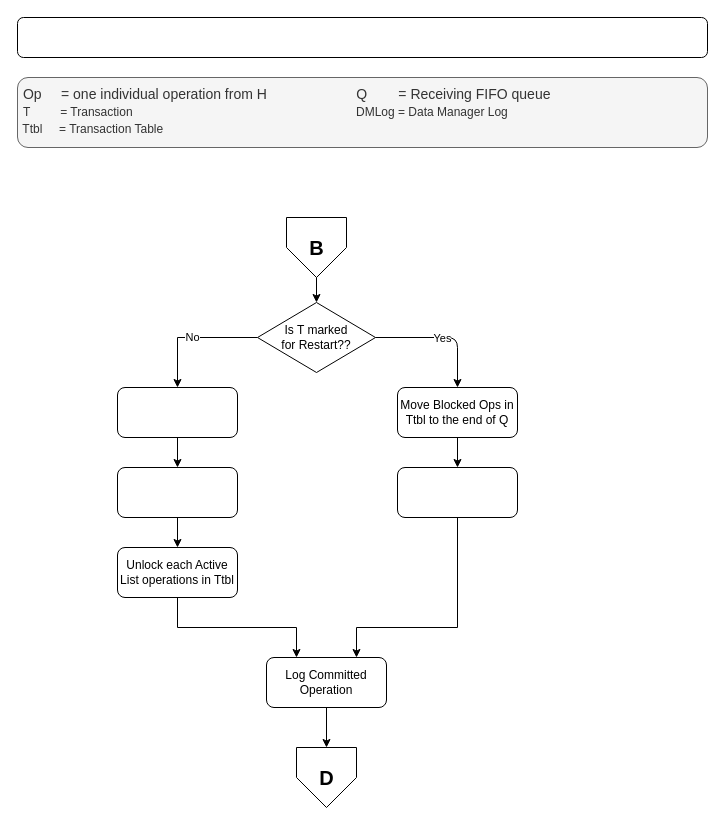
This 725x825 diagram has some shape labels left out. The centre of each missing label's shape, as x and y in pixels:
"Add Active List Operations in Ttbl to DMLog" goes at point 177,492.
"Change State to Committed in Ttbl" goes at point 177,412.
"Process Commit Operation" goes at point 362,37.
"Remove T from Ttbl" goes at point 457,492.
